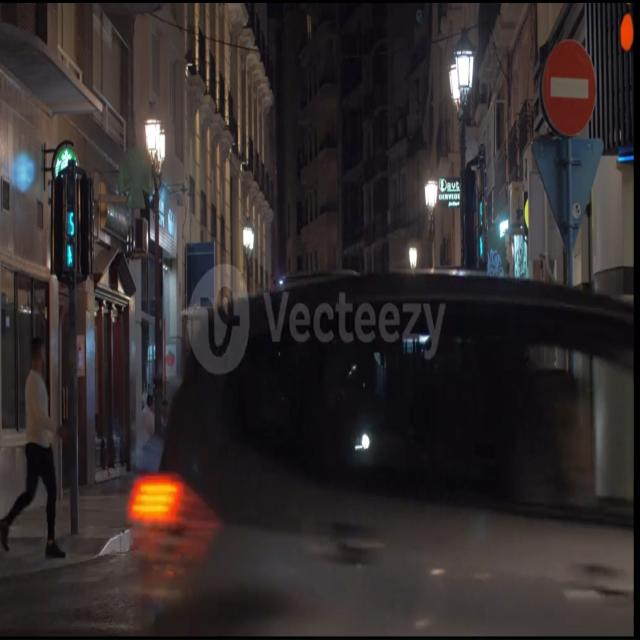pedestrian: (0, 337, 65, 558)
